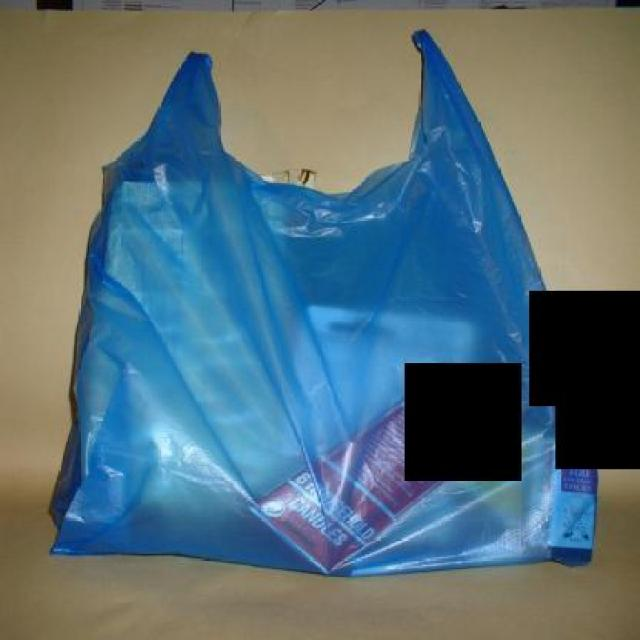plastic bag: (43, 26, 595, 579)
